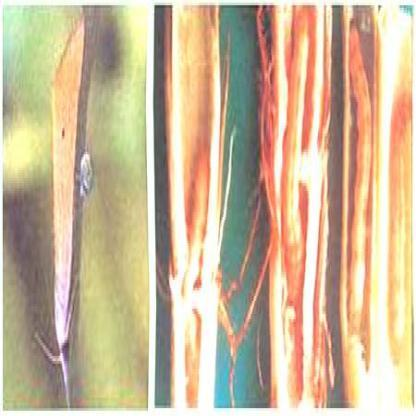stem-borer: (46, 9, 81, 404)
